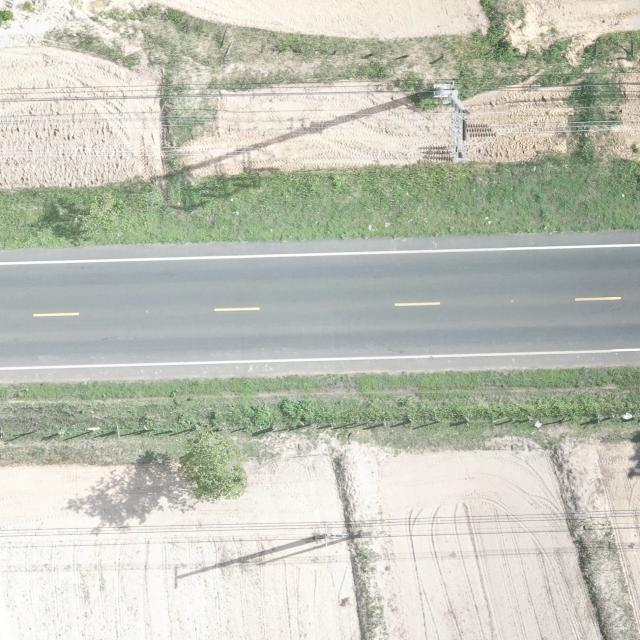Tree: (177, 431, 250, 503)
